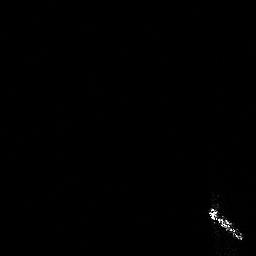ship: (206, 205, 247, 242)
